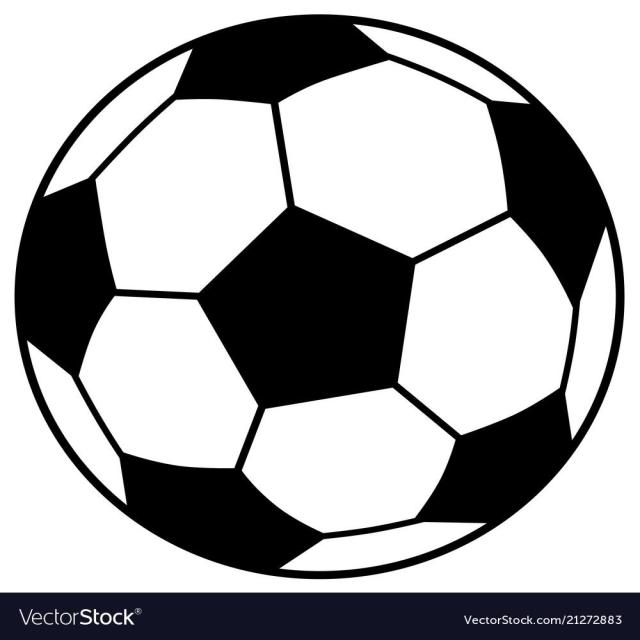Soccer Ball: (18, 16, 622, 572)
